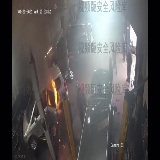fire: (49, 76, 62, 116)
